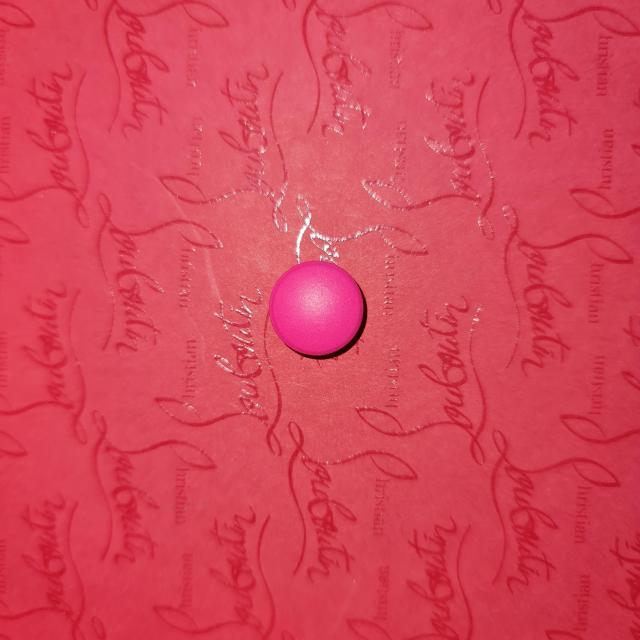pill: (264, 258, 366, 357)
